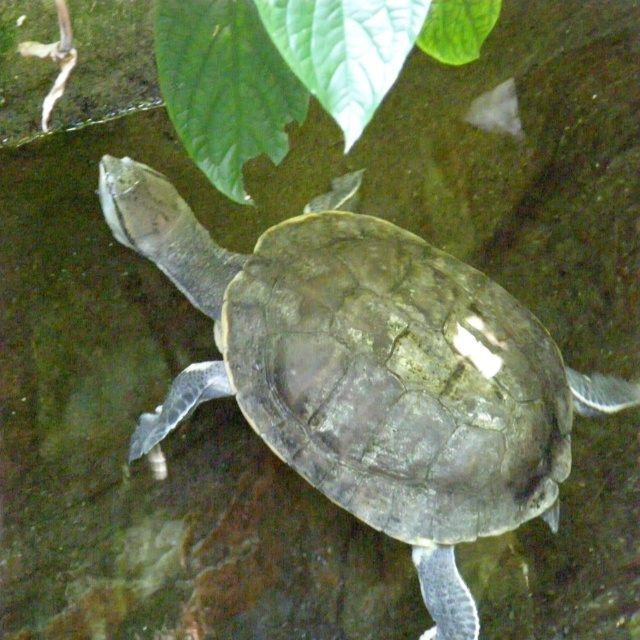Tortoise: (99, 155, 639, 640)
